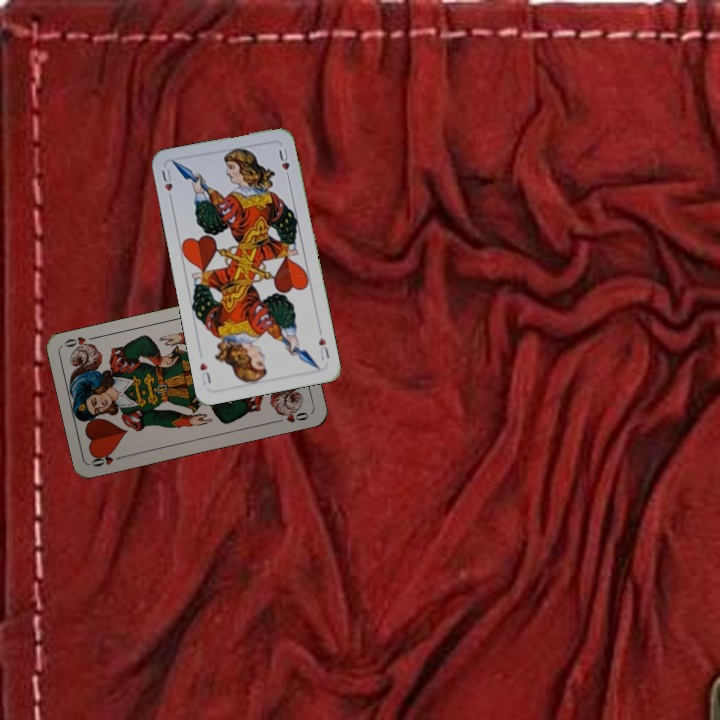HO: (87, 448, 128, 469)
HU: (158, 165, 175, 204), (315, 333, 332, 363)
